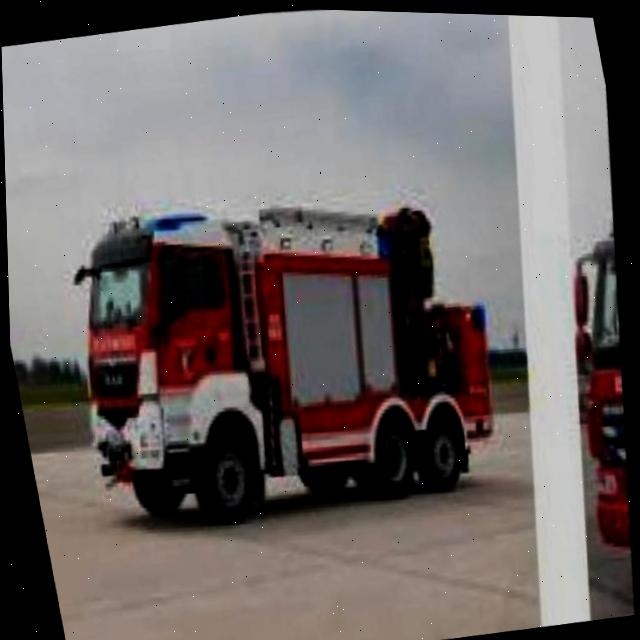emergency: (47, 157, 516, 547)
